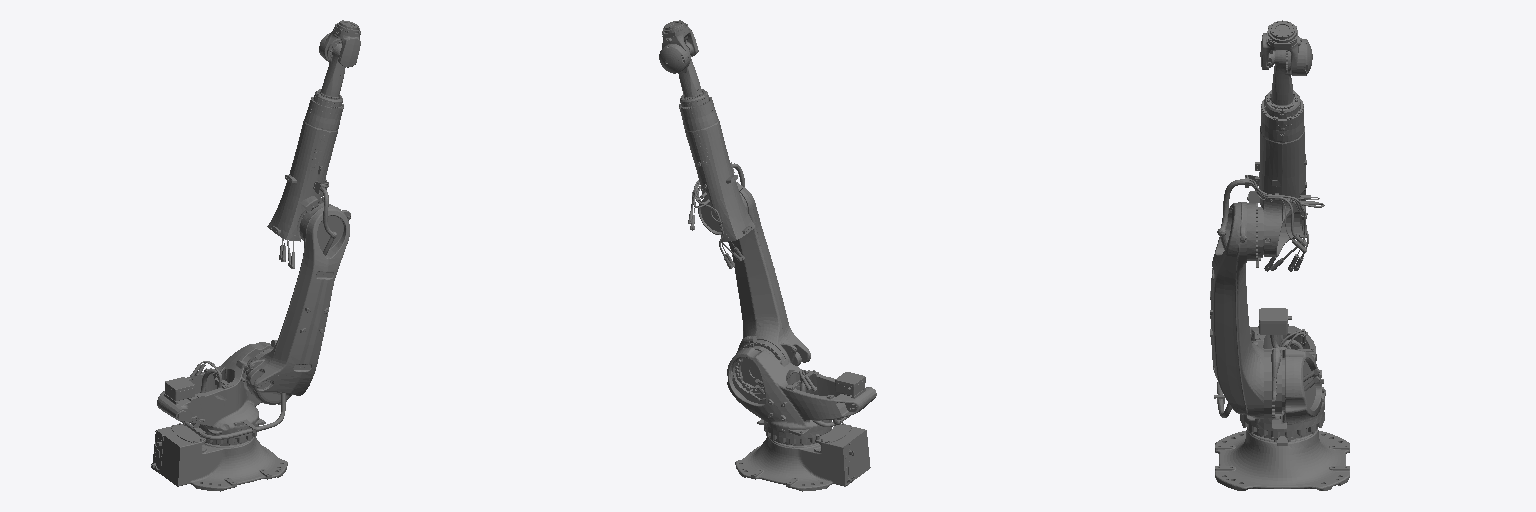
URDF robot description (kuka_kr_120):
<?xml version="1.0" ?>
<!-- =================================================================================== -->
<!-- |    This document was autogenerated by xacro from indy7.xacro                    | -->
<!-- |    EDITING THIS FILE BY HAND IS NOT RECOMMENDED                                 | -->
<!-- =================================================================================== -->
<robot name="kuka_kr_120" xmlns:xacro="http://ros.org/wiki/xacro">
  <material name="metal_grey"> <color rgba="0.5 0.5 0.5 1"/> </material>
  <link name="world"/>
  <link name="base_link">
    <visual>
      <origin rpy="0 0 0" xyz="0 0 0"/>
      <geometry>
        <mesh filename="meshes/kuka_kr_120_base_link.stl"/>
      </geometry>
      <material name="metal_grey"/>
    </visual>
    <collision>
      <origin rpy="0 0 0" xyz="0 0 0"/>
      <geometry>
        <mesh filename="meshes/kuka_kr_120_base_link.stl"/>
      </geometry>
    </collision>
    <inertial>
      <origin rpy="0 0 0" xyz="-0.115424 0.000323562 0.115133"/>
      <mass value="257.693"/>
      <inertia ixx="5.9791" iyy="13.1238" izz="16.0208" iyz="-0.00780437" ixz="1.37877" ixy="0.0327832"/>
    </inertial>
  </link>
  <link name="link1">
    <visual>
      <origin rpy="0 0 0" xyz="0 0 0"/>
      <geometry>
        <mesh filename="meshes/kuka_kr_120_link1.stl"/>
      </geometry>
      <material name="metal_grey"/>
    </visual>
    <collision>
      <origin rpy="0 0 0" xyz="0 0 0"/>
      <geometry>
        <mesh filename="meshes/kuka_kr_120_link1.stl"/>
      </geometry>
    </collision>
    <inertial>
      <origin rpy="0 0 0" xyz="-0.0299196 -0.00446842 -0.216798"/>
      <mass value="254.573"/>
      <inertia ixx="8.21089" iyy="15.5349" izz="13.9837" iyz="-0.23054" ixz=" 0.790915" ixy="1.29514"/>
    </inertial>
  </link>
  <link name="link2">
    <visual>
      <origin rpy="0 0 0" xyz="0 0 0"/>
      <geometry>
        <mesh filename="meshes/kuka_kr_120_link2.stl"/>
      </geometry>
      <material name="metal_grey"/>
    </visual>
    <collision>
      <origin rpy="0 0 0" xyz="0 0 0"/>
      <geometry>
        <mesh filename="meshes/kuka_kr_120_link2.stl"/>
      </geometry>
    </collision>
    <inertial>
      <origin rpy="0 0 0" xyz="0.449283 0.000936736 -0.222893"/>
      <mass value="331.528"/>
      <inertia ixx="5.60972" iyy="65.6326" izz="64.9414" iyz="-0.00657388" ixz=" 4.37003" ixy="0.180956"/>
    </inertial>
  </link>
  <link name="link3">
    <visual>
      <origin rpy="0 0 0" xyz="0 0 0"/>
      <geometry>
        <mesh filename="meshes/kuka_kr_120_link3.stl"/>
      </geometry>
      <material name="metal_grey"/>
    </visual>
    <collision>
      <origin rpy="0 0 0" xyz="0 0 0"/>
      <geometry>
        <mesh filename="meshes/kuka_kr_120_link3.stl"/>
      </geometry>
    </collision>
    <inertial>
      <origin rpy="0 0 0" xyz="0.375107 -0.113505 0.0869723"/>
      <mass value="172.325"/>
      <inertia ixx="1.66847" iyy="14.9789" izz="14.9091" iyz="0.0995061" ixz="-0.374194" ixy="0.0156184"/>
    </inertial>
  </link>
  <link name="link4">
    <visual>
      <origin rpy="0 0 0" xyz="0 0 0"/>
      <geometry>
        <mesh filename="meshes/kuka_kr_120_link4.stl"/>
      </geometry>
      <material name="metal_grey"/>
    </visual>
    <collision>
      <origin rpy="0 0 0" xyz="0 0 0"/>
      <geometry>
        <mesh filename="meshes/kuka_kr_120_link4.stl"/>
      </geometry>
    </collision>
    <inertial>
      <origin rpy="0 0 0" xyz="0.004497 4.39962e-06 -0.174621"/>
      <mass value="18.8575"/>
      <inertia ixx="0.332037" iyy="0.33071" izz="0.0462583" iyz="-8.34095e-06" ixz="0.0151001" ixy="3.83858e-06"/>
    </inertial>
  </link>
  <link name="link5">
    <visual>
      <origin rpy="0 0 0" xyz="0 0 0"/>
      <geometry>
        <mesh filename="meshes/kuka_kr_120_link5.stl"/>
      </geometry>
      <material name="metal_grey"/>
    </visual>
    <collision>
      <origin rpy="0 0 0" xyz="0 0 0"/>
      <geometry>
        <mesh filename="meshes/kuka_kr_120_link5.stl"/>
      </geometry>
    </collision>
    <inertial>
      <origin rpy="0 0 0" xyz="0.0519233 4.07229e-05 -0.0252285"/>
      <mass value="25.5148"/>
      <inertia ixx="0.22791" iyy="0.32026" izz="0.201587" iyz="-0.00012791" ixz="0.0560059" ixy="-7.78827e-05"/>
    </inertial>
  </link>
  <link name="link6">
    <visual>
      <origin rpy="0 0 0" xyz="0 0 0"/>
      <geometry>
        <mesh filename="meshes/kuka_kr_120_link6.stl"/>
      </geometry>
      <material name="metal_grey"/>
    </visual>
    <collision>
      <origin rpy="0 0 0" xyz="0 0 0"/>
      <geometry>
        <mesh filename="meshes/kuka_kr_120_link6.stl"/>
      </geometry>
    </collision>
    <inertial>
      <origin rpy="0 0 0" xyz="-4.88162e-05 4.51739e-06 0.00175749"/>
      <mass value="2.15518"/>
      <inertia ixx="0.00284771" iyy="0.00285497" izz="0.00512802" iyz="1.48688e-07" ixz="-9.18771e-07" ixy="3.80765e-08"/>
    </inertial>
  </link>
  <link name="tcp">
    <collision>
      <geometry>
        <box size="0.01 0.01 0.01"/>
      </geometry>
      <origin rpy="0 0 0" xyz="0 0 0"/>
    </collision>
    <inertial>
      <mass value="0.001"/>
      <origin rpy="0 0 0" xyz="0.0 0.0 0.0"/>
      <inertia ixx="0.0" ixy="0.0" ixz="0.0" iyy="0.0" iyz="0.0" izz="0.0"/>
    </inertial>
  </link>


  <joint name="world_joint" type="fixed">
    <parent link="world"/>
    <child link="base_link"/>
    <origin rpy="0.0 0.0 0.0" xyz="0 0 0"/>
  </joint>
  <joint name="joint1" type="revolute">
    <parent link="base_link"/>     
    <child link="link1"/>  
    <origin rpy="3.14159265358 0.0 0.0" xyz="0.0 0.0 0.2356"/>
    <axis xyz="0 0 1"/>
    <limit effort="1000" lower="-3.2289" upper="3.2289" velocity="10"/>
  </joint>
  <joint name="joint2" type="revolute">
    <parent link="link1"/>  
    <child link="link2"/>  
    <origin rpy="1.57079632679 0.0 0.0" xyz="0.33 0.0 -0.4094"/>
    <axis xyz="0 0 1"/>
    <limit effort="1000" lower="-2.4435" upper="-0.0873" velocity="10"/>
  </joint>
  <joint name="joint3" type="revolute">
    <parent link="link2"/> 
    <child link="link3"/>    
    <origin rpy="0.0 0.0 0.0" xyz="1.15 0.0 -0.095"/>
    <axis xyz="0 0 1"/>
    <limit effort="1000" lower="-2.0944" upper="2.9322" velocity="10"/>
  </joint>
  <joint name="joint4" type="revolute">
    <parent link="link3"/>  
    <child link="link4"/>   
    <origin rpy="0.0 -1.57079632679 0.0" xyz="0.8785 -0.115 0.095"/>
    <axis xyz="0 0 1"/>
    <limit effort="1000" lower="-6.1087" upper="6.1087" velocity="10"/>
  </joint>
  <joint name="joint5" type="revolute">
    <parent link="link4"/>  
    <child link="link5"/>   
    <origin rpy="0.0 1.57079632679 0.0" xyz="0.059 0.0 -0.3415"/>
    <axis xyz="0 0 1"/>
    <limit effort="1000" lower="-2.1817" upper="2.1817" velocity="10"/>
  </joint>
  <joint name="joint6" type="revolute">
    <parent link="link5"/>  
    <child link="link6"/>
    <origin rpy="0.0 -1.57079632679 0.0" xyz="0.195 0.0 -0.059"/>
    <axis xyz="0 0 1"/>
    <limit effort="1000" lower="-6.1087" upper="6.1087" velocity="10"/>
  </joint>
  <joint name="tcp_joint" type="fixed">
    <parent link="link6"/>
    <child link="tcp"/>
    <origin rpy="3.1415926536 0.0 1.5707963268" xyz="0.0 0.0 -0.02"/>
  </joint> 
  
</robot>

--- Facts derived from the render (not from the file) ---
Views: 3 orthographic renders of the robot side by side, from view 1: azimuth 30°, elevation 25°; view 2: azimuth 150°, elevation 25°; view 3: azimuth 270°, elevation 25°.
Robot: kuka_kr_120 — 9 links, 8 joints (6 revolute, 2 fixed); root link world; default pose: joints at zero except 1 at the middle of their limits (joint2 = -1.27).
Visible links, largest first — view 1: link2, link1, base_link, link3, link4, link5; view 2: link1, link3, link2, base_link, link5, link4; view 3: link2, link3, base_link, link1, link5, link4.
Link boxes in pixels (box(x1,y1,x2,y2)): link2: box(246, 203, 350, 404); link1: box(157, 342, 285, 445); base_link: box(151, 423, 287, 491); link3: box(267, 95, 343, 268); link4: box(315, 39, 345, 103); link5: box(319, 23, 360, 67); link1: box(727, 347, 876, 445); link3: box(679, 95, 754, 268); link2: box(728, 185, 810, 365); base_link: box(735, 423, 870, 491); link5: box(659, 23, 698, 73); link4: box(678, 47, 707, 103); link2: box(1210, 202, 1284, 423); link3: box(1217, 99, 1324, 271); base_link: box(1215, 429, 1349, 490); link1: box(1214, 308, 1325, 445); link5: box(1260, 24, 1312, 75); link4: box(1264, 50, 1300, 113).
Size in the robot's own frame: 1.59 by 0.782 by 3.17 metres.
7 mesh visuals loaded from 7 distinct referenced files (7 binary STL).
